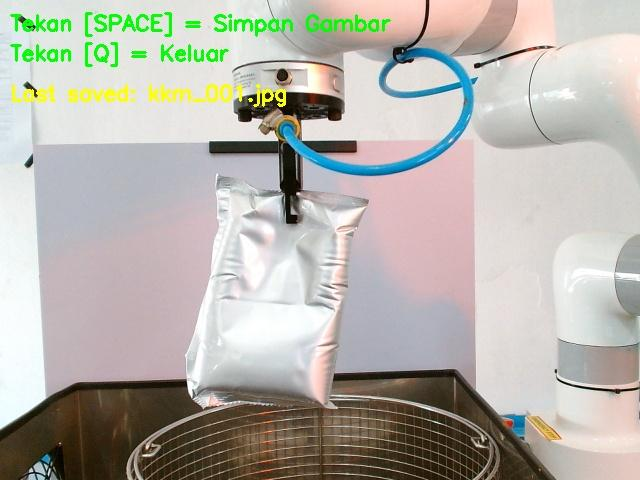retort-pouch: (180, 176, 366, 411)
